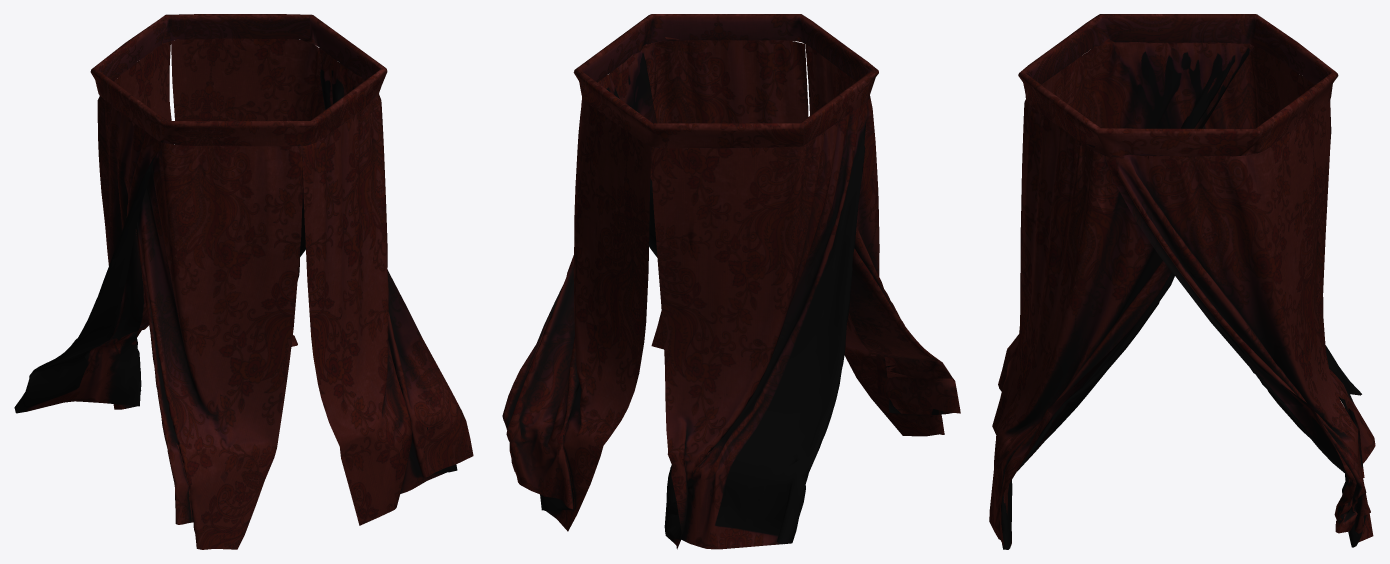
File: SM_BED_Cover.fbx
3 views of the same model, side by side, from view 1: azimuth 30°, elevation 25°; view 2: azimuth 150°, elevation 25°; view 3: azimuth 270°, elevation 25° (orthographic). The views are drawn at different scales.
Visible parts, largest first — view 1: SM_BED_Cover_LOD0; view 2: SM_BED_Cover_LOD0; view 3: SM_BED_Cover_LOD0.
Boxes of the visible parts, box(x1,y1,x2,y2) form: SM_BED_Cover_LOD0: box(14, 14, 473, 549); SM_BED_Cover_LOD0: box(502, 14, 960, 549); SM_BED_Cover_LOD0: box(989, 14, 1375, 549).
Size of the model in its own units: 443 by 459 by 569.
Materials: 1 (1 with a texture image).
